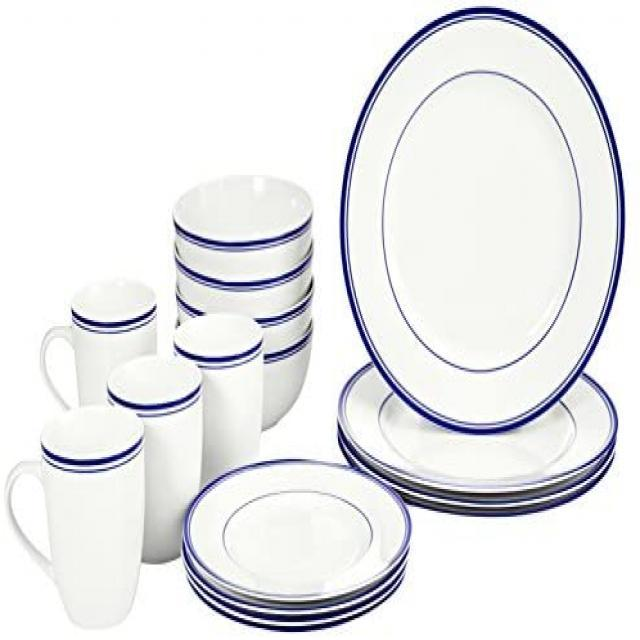ceramic plate: (344, 14, 616, 434)
